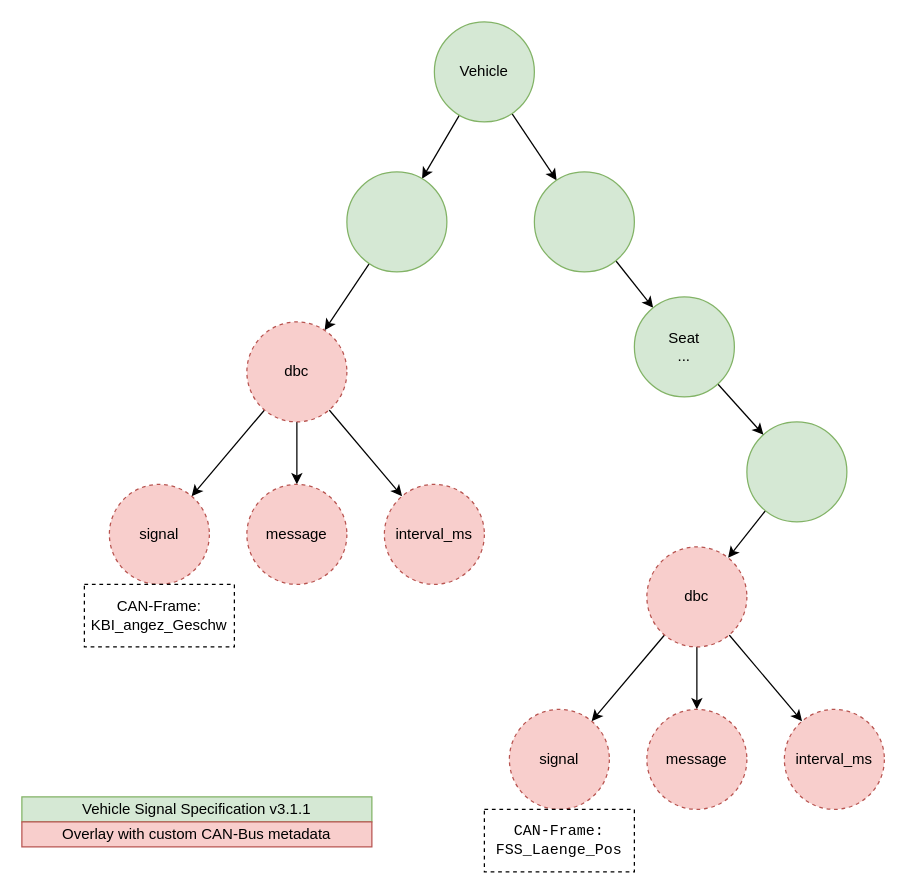
The diagram is 906 pixels wide and 895 high, and some of its shapes have lost their labels. Each missing label, with the centre of its shape:
"Cabin" belongs at point 583,221.
"Position" belongs at point 796,471.
"Speed" belongs at point 396,221.
